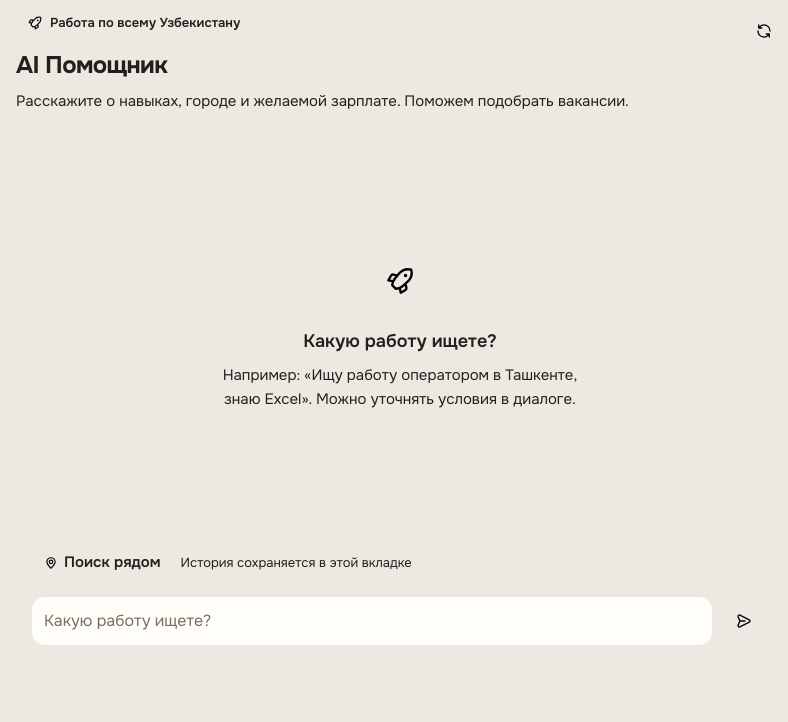
Test case: geolocation is requested only on click and denial is localized without blocking ordinary search
Click the button "Поиск рядом" at (102, 563), box [32,541,172,585]
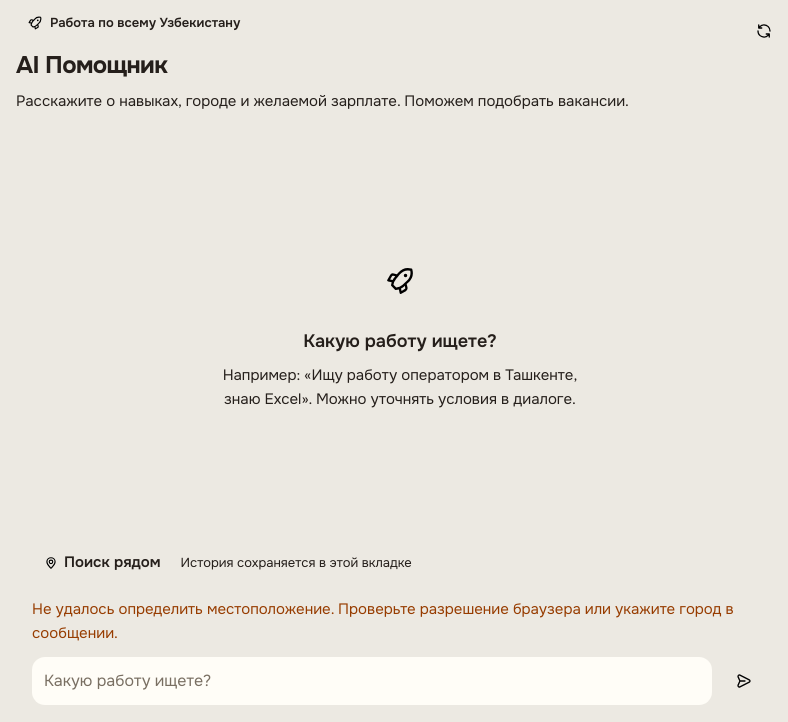
Expected: the message shows "Проверьте разрешение браузера", [32,599,734,643]
Type "Ищу работу" into the field at (372, 681), box [32,657,712,705]
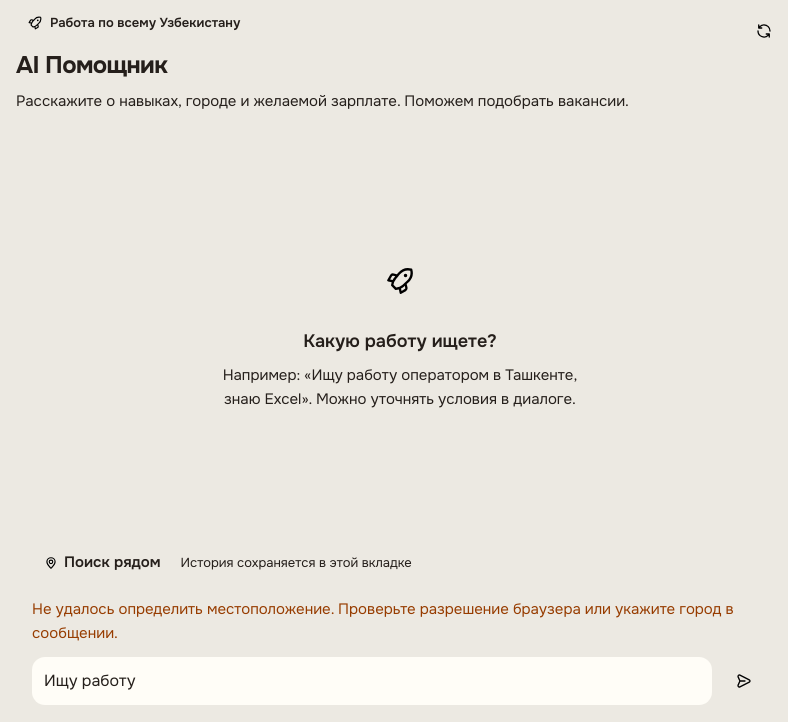
Click the button named "Отправить" at (744, 681), box [720,657,768,705]
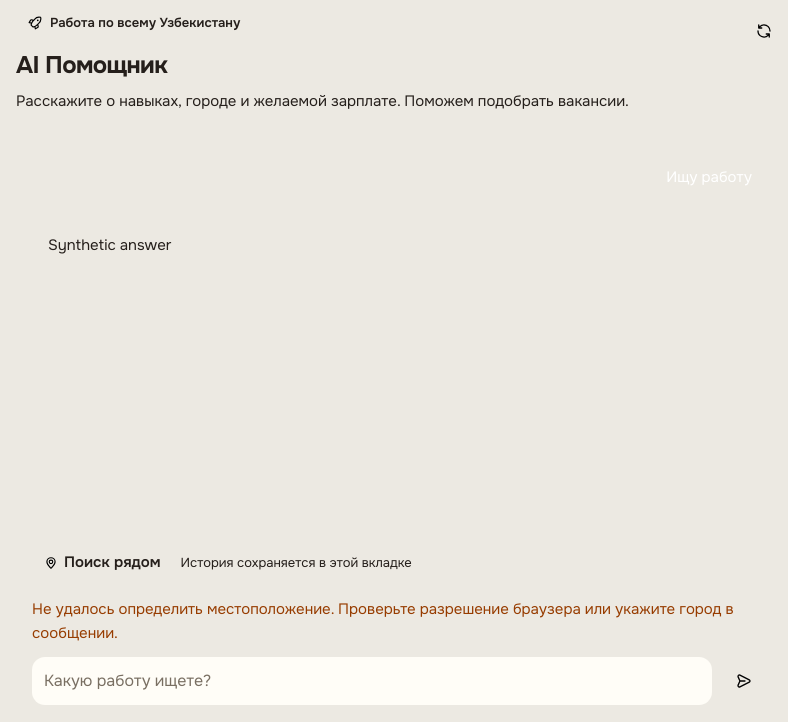
Expected: the text "Synthetic answer" is shown, [48,235,172,255]
